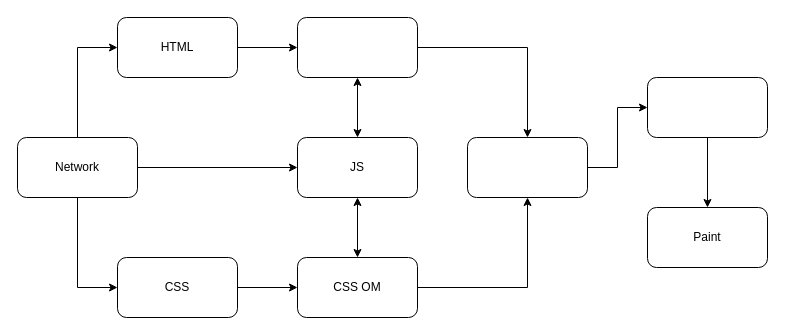
Image size: 785x335. Some labels were removed from this diagram. Each missing label, with the centre of its shape:
DOM: (357,47)
Layout: (707,107)
Render Tree: (527,167)
